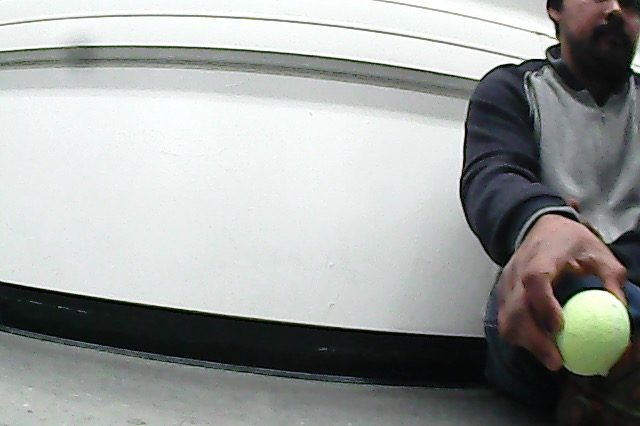ball: (553, 288, 633, 379)
